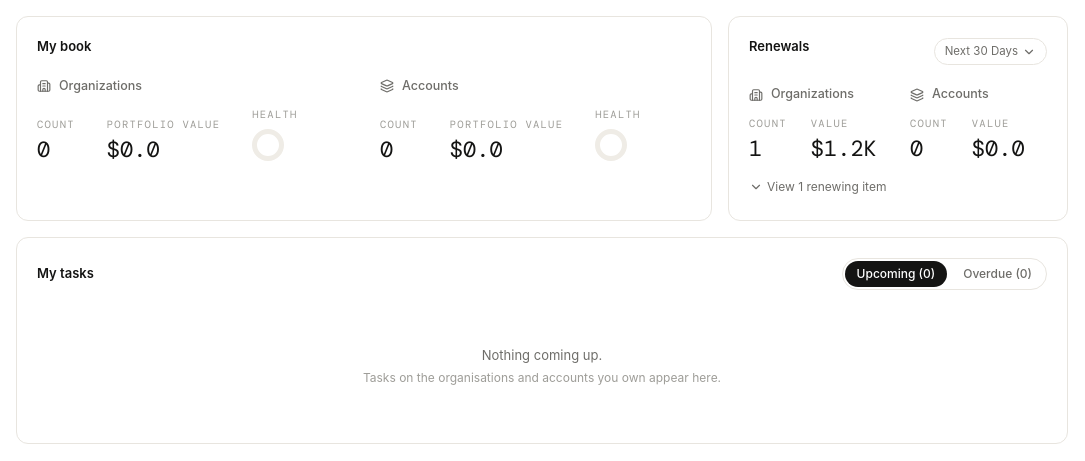
Test: CockpitView › keeps the renewals drill-down list collapsed until its toggle is clicked
Expected: the text "Acme Co" is not shown
Click the button "View 1 renewing item" at (818, 187), box [749, 178, 886, 196]
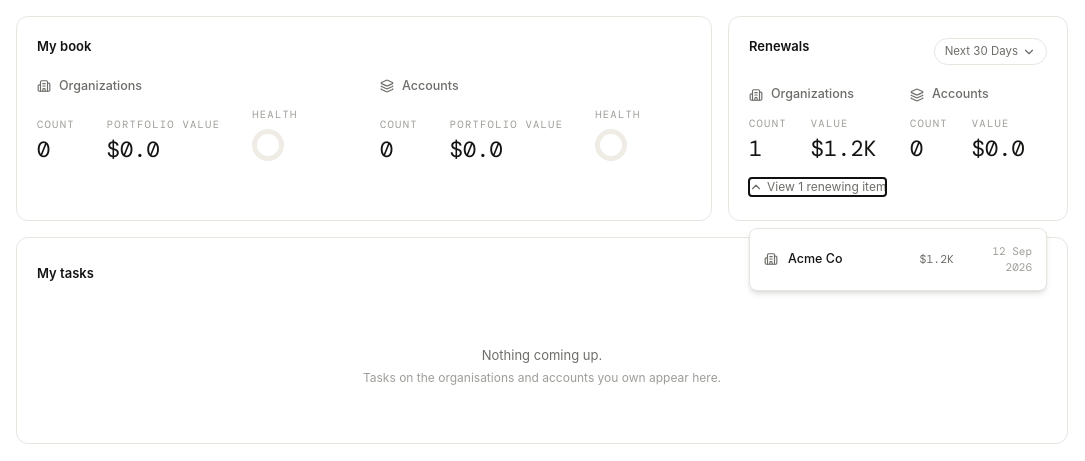
Expected: the text "Acme Co" is shown, [788, 251, 842, 266]
Click the button "View 1 renewing item" at (818, 187), box [749, 178, 886, 196]
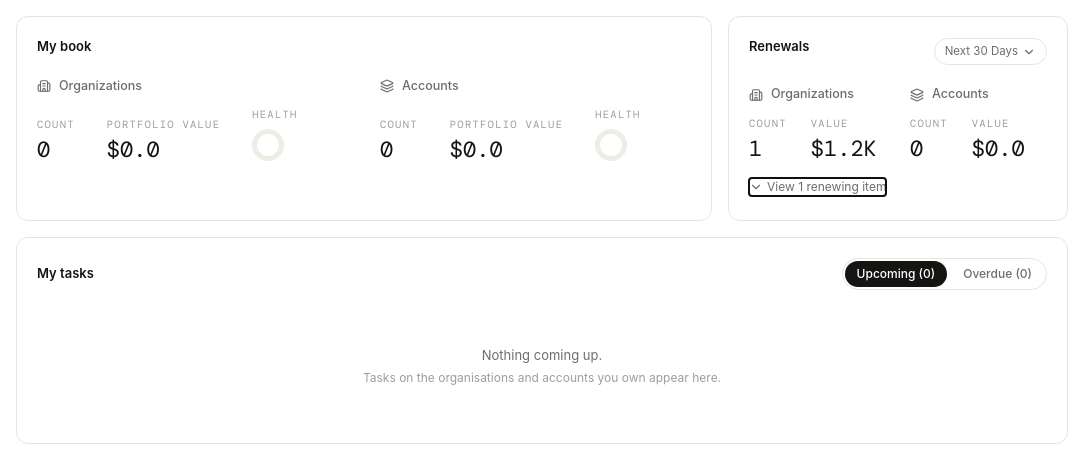
Expected: the button "Acme Co" is gone
